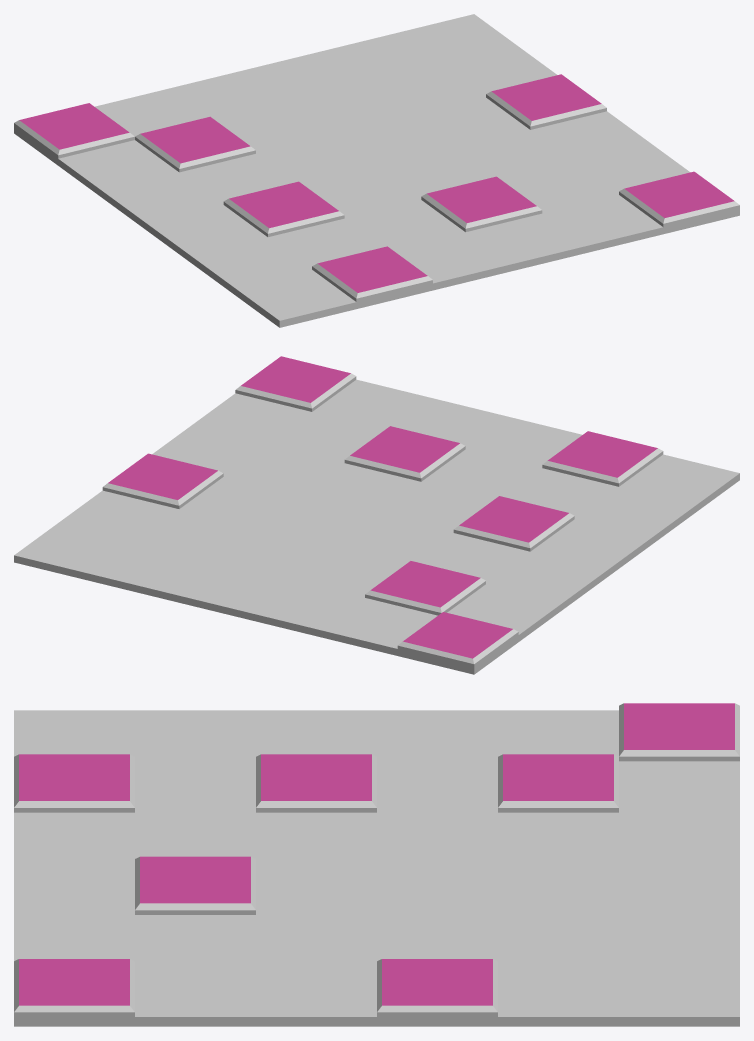
The model's file is tile.fbx.
3 views of the same model, one above another, from view 1: azimuth 30°, elevation 25°; view 2: azimuth 150°, elevation 25°; view 3: azimuth 270°, elevation 25° (orthographic). The views are drawn at different scales.
Parts seen in each view (by area): view 1: pCube6.002; view 2: pCube6.002; view 3: pCube6.002.
Part boxes in pixels (x1,y1,x2,y2): pCube6.002: (14,14,739,327); pCube6.002: (14,356,739,674); pCube6.002: (14,703,739,1026).
Bounding box in the file's own units: 1297 × 37.5 × 1297.
